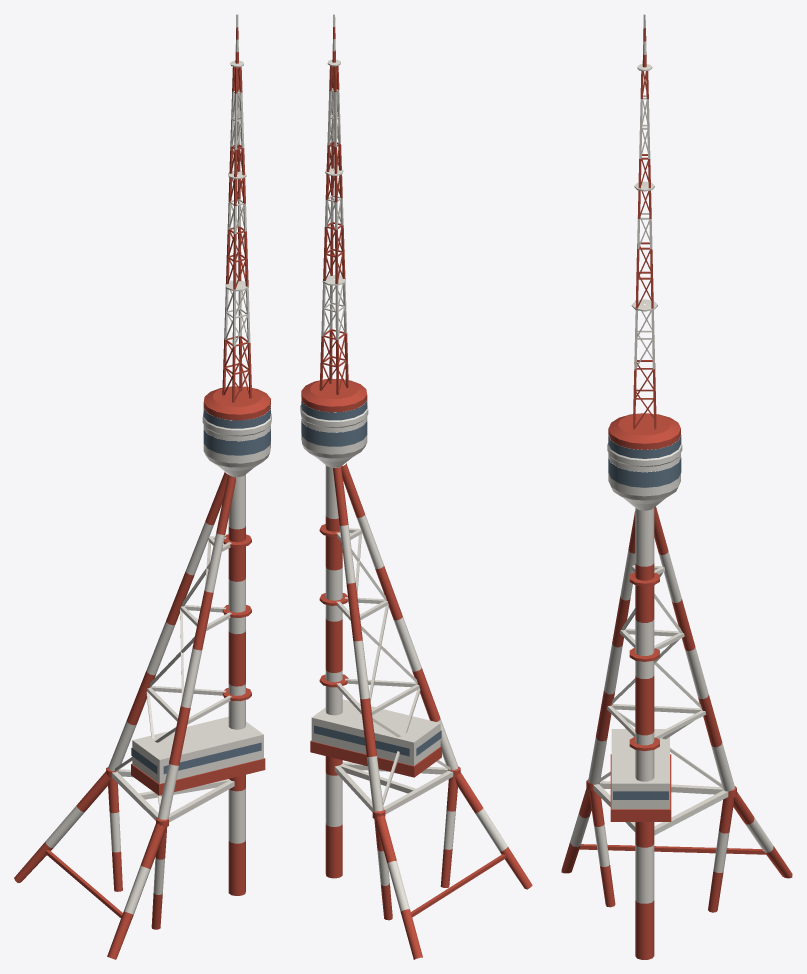
Rendered from tbilisi-tv-tower.glb.
The picture shows the model from 3 angles, left to right: view 1: azimuth 30°, elevation 25°; view 2: azimuth 150°, elevation 25°; view 3: azimuth 270°, elevation 25°; orthographic projection. The views are drawn at different scales.
Parts seen in each view (by area): view 1: Tbilisi TV Broadcasting Tower; view 2: Tbilisi TV Broadcasting Tower; view 3: Tbilisi TV Broadcasting Tower.
Part boxes in pixels (x1,y1,x2,y2): Tbilisi TV Broadcasting Tower: (14, 14, 271, 959); Tbilisi TV Broadcasting Tower: (300, 14, 532, 959); Tbilisi TV Broadcasting Tower: (561, 14, 792, 959).
Bounding box in the file's own units: 64 × 274 × 61.07.
